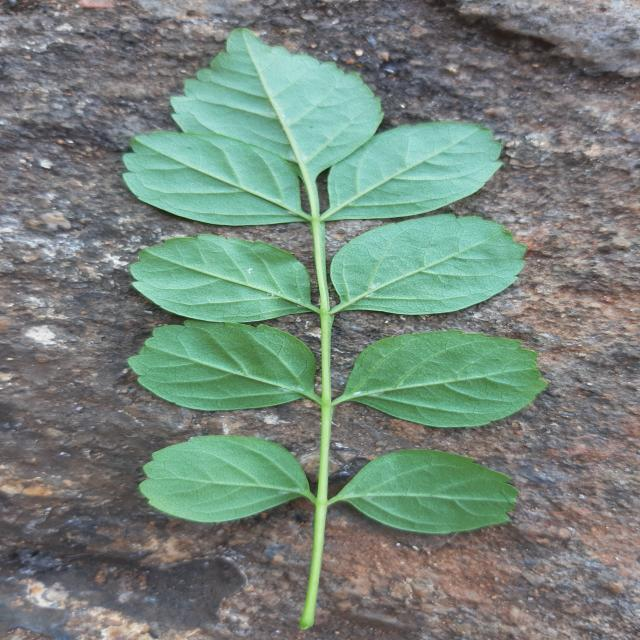tecoma: (124, 29, 547, 629)
